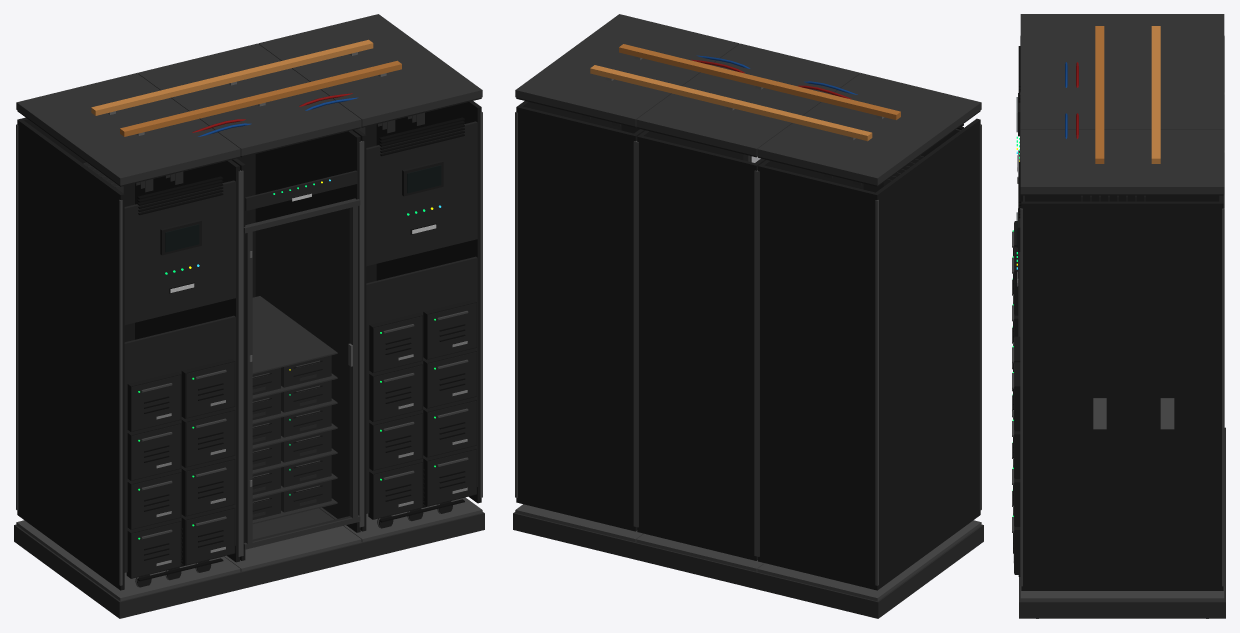
The model's file is ups.glb.
The picture shows the model from 3 angles, left to right: view 1: azimuth 30°, elevation 25°; view 2: azimuth 150°, elevation 25°; view 3: azimuth 270°, elevation 25°; orthographic projection. The views are drawn at different scales.
Parts seen in each view (by area): view 1: UPS_Power_Module_1, UPS_Battery_Cabinet, UPS_Power_Module_2, UPS_Battery_Cabinet_Door, Top_Busbars, UPS_Power_Module_1_PM_8, UPS_Power_Module_1_PM_7, UPS_Power_Module_1_PM_1, UPS_Power_Module_1_PM_3, UPS_Power_Module_1_PM_4, UPS_Power_Module_1_PM_5, UPS_Power_Module_1_PM_6 (+17 smaller); view 2: UPS_Power_Module_1, UPS_Power_Module_2, UPS_Battery_Cabinet, Top_Busbars; view 3: UPS_Power_Module_2, UPS_Power_Module_1, UPS_Battery_Cabinet, Top_Busbars, UPS_Power_Module_2_PM_8, UPS_Power_Module_2_PM_6, UPS_Power_Module_2_PM_2, UPS_Power_Module_2_PM_4, UPS_Power_Module_1_PM_8, UPS_Battery_Cabinet_Door.
Boxes of the visible parts, x1=… form: UPS_Power_Module_1: x1=14, y1=73, x2=242, y2=618; UPS_Battery_Cabinet: x1=137, y1=43, x2=363, y2=589; UPS_Power_Module_2: x1=258, y1=14, x2=484, y2=559; UPS_Battery_Cabinet_Door: x1=243, y1=198, x2=360, y2=549; Top_Busbars: x1=91, y1=39, x2=401, y2=136; UPS_Power_Module_1_PM_8: x1=181, y1=358, x2=235, y2=418; UPS_Power_Module_1_PM_7: x1=127, y1=371, x2=181, y2=431; UPS_Power_Module_1_PM_1: x1=126, y1=518, x2=181, y2=578; UPS_Power_Module_1_PM_3: x1=127, y1=469, x2=181, y2=529; UPS_Power_Module_1_PM_4: x1=181, y1=456, x2=235, y2=516; UPS_Power_Module_1_PM_5: x1=127, y1=421, x2=181, y2=480; UPS_Power_Module_1_PM_6: x1=181, y1=407, x2=235, y2=467; UPS_Power_Module_1: x1=755, y1=73, x2=983, y2=618; UPS_Power_Module_2: x1=513, y1=14, x2=739, y2=559; UPS_Battery_Cabinet: x1=634, y1=43, x2=860, y2=589; Top_Busbars: x1=590, y1=44, x2=900, y2=141; UPS_Power_Module_2: x1=1018, y1=129, x2=1225, y2=618; UPS_Power_Module_1: x1=1018, y1=14, x2=1225, y2=486; UPS_Battery_Cabinet: x1=1019, y1=71, x2=1225, y2=543; Top_Busbars: x1=1065, y1=26, x2=1160, y2=163; UPS_Power_Module_2_PM_8: x1=1012, y1=362, x2=1020, y2=431; UPS_Power_Module_2_PM_6: x1=1012, y1=419, x2=1020, y2=478; UPS_Power_Module_2_PM_2: x1=1012, y1=515, x2=1020, y2=574; UPS_Power_Module_2_PM_4: x1=1012, y1=467, x2=1020, y2=526; UPS_Power_Module_1_PM_8: x1=1012, y1=247, x2=1018, y2=315; UPS_Battery_Cabinet_Door: x1=1017, y1=150, x2=1020, y2=336.
Size of the model in its own units: 1.84 by 2.17 by 0.951.
